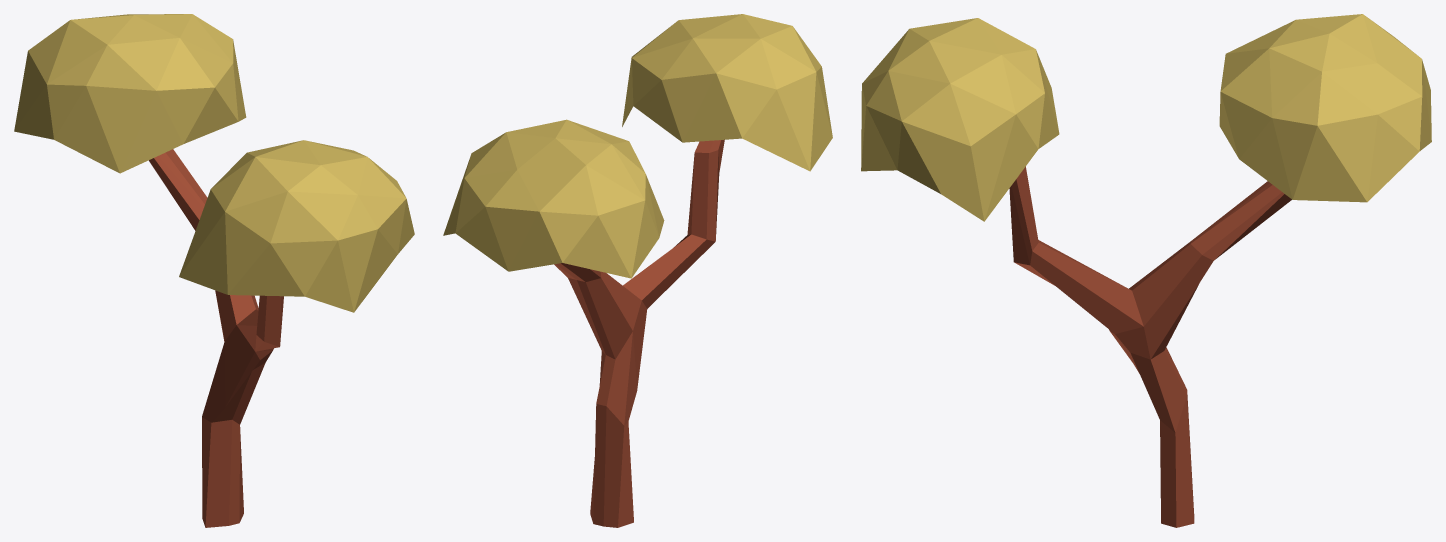
Rendered from Tree6.fbx.
3 renders of one model, left to right at view 1: azimuth 30°, elevation 25°; view 2: azimuth 150°, elevation 25°; view 3: azimuth 270°, elevation 25°, orthographic. The views are drawn at different scales.
Parts seen in each view (by area): view 1: Icosphere.001, Icosphere, Cube; view 2: Icosphere, Icosphere.001, Cube; view 3: Icosphere, Icosphere.001, Cube.
Boxes of the visible parts, x1,y1,x2,y2 form: Icosphere.001: (179, 140, 414, 312); Icosphere: (14, 14, 246, 173); Cube: (149, 149, 283, 527); Icosphere: (443, 119, 664, 278); Icosphere.001: (622, 14, 832, 171); Cube: (554, 139, 724, 527); Icosphere: (1219, 14, 1431, 202); Icosphere.001: (861, 18, 1059, 221); Cube: (1009, 166, 1291, 527).
Size of what is drawn, in the model's own units: 127 by 264 by 286.
